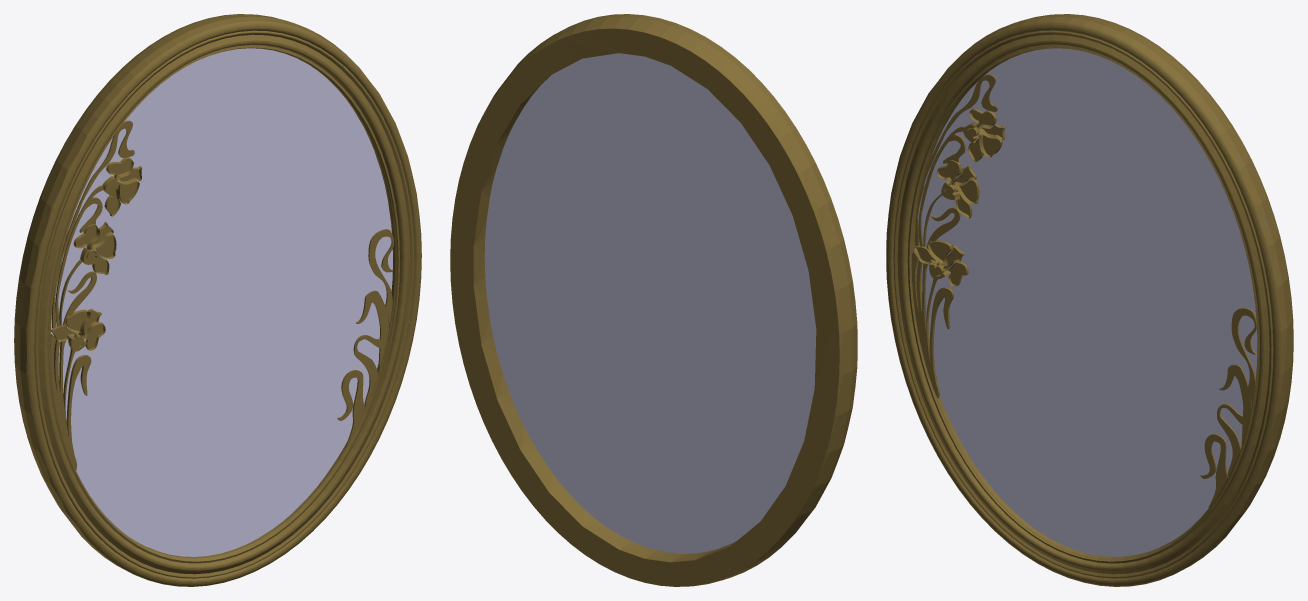
File: mirror2.FBX
3 renders of one model, left to right at view 1: azimuth 30°, elevation 25°; view 2: azimuth 150°, elevation 25°; view 3: azimuth 330°, elevation 25°, orthographic.
Parts seen in each view (by area): view 1: Group01; view 2: Group01; view 3: Group01.
Boxes of the visible parts, x1,y1,x2,y2 form: Group01: (14, 14, 421, 586); Group01: (450, 14, 857, 586); Group01: (886, 14, 1293, 586).
Size of the model in its own units: 446 by 600 by 33.38.
